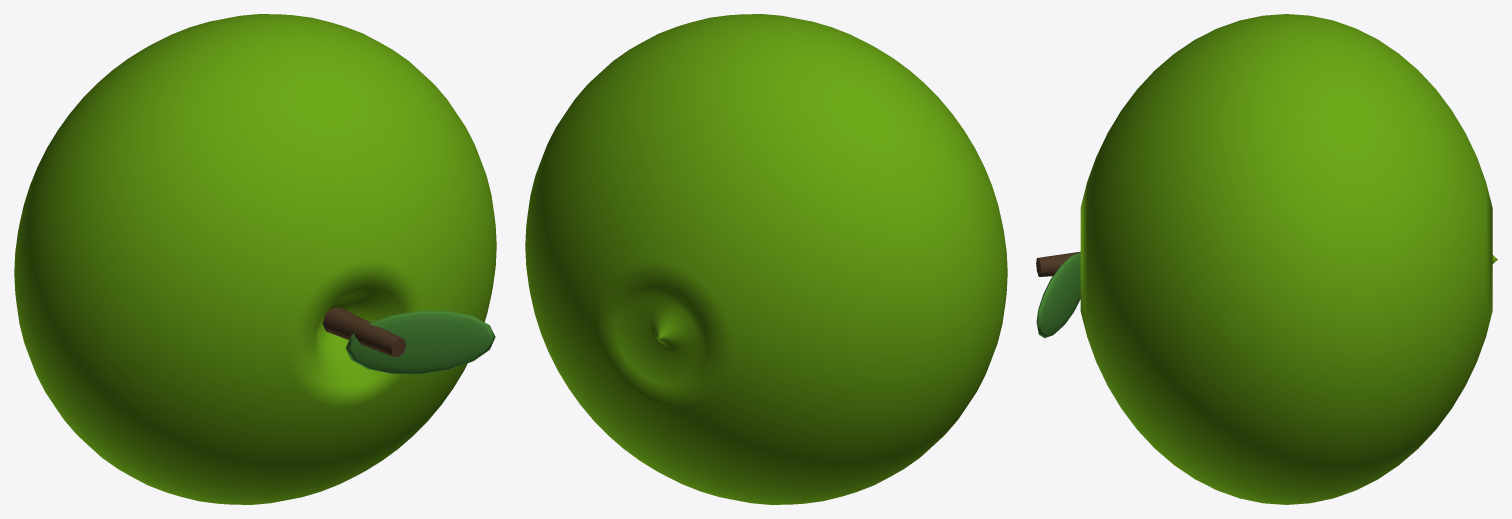
The model's file is green_apple.obj.
The picture shows the model from 3 angles, left to right: view 1: azimuth 30°, elevation 25°; view 2: azimuth 150°, elevation 25°; view 3: azimuth 270°, elevation 25°; orthographic projection. The views are drawn at different scales.
Parts seen in each view (by area): view 1: green_apple_0_0, green_apple_2_1937, green_apple_1_1885; view 2: green_apple_0_0; view 3: green_apple_0_0, green_apple_2_1937, green_apple_1_1885.
Part boxes in pixels (left/top/right/bottom): green_apple_0_0: left=14, top=14, right=496, bottom=504; green_apple_2_1937: left=345, top=310, right=495, bottom=374; green_apple_1_1885: left=322, top=307, right=406, bottom=357; green_apple_0_0: left=525, top=14, right=1007, bottom=504; green_apple_0_0: left=1080, top=14, right=1497, bottom=504; green_apple_2_1937: left=1036, top=252, right=1080, bottom=338; green_apple_1_1885: left=1036, top=251, right=1080, bottom=276.
Size of the model in its own units: 0.077 by 0.077 by 0.0724.
